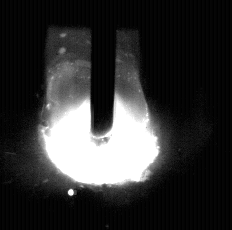arame: (91, 0, 115, 146)
poca: (45, 0, 158, 230)
